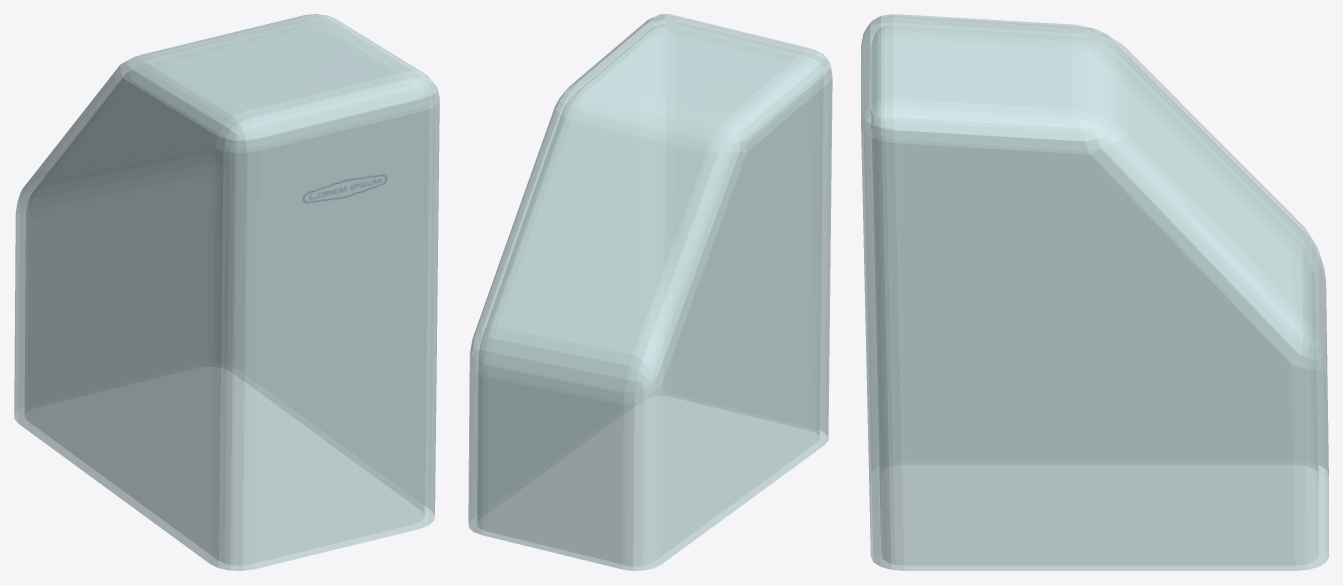
File: huppu_1.3.fbx
3 renders of one model, left to right at view 1: azimuth 30°, elevation 25°; view 2: azimuth 150°, elevation 25°; view 3: azimuth 270°, elevation 25°, orthographic. The views are drawn at different scales.
Visible parts, largest first — view 1: Cube; view 2: Cube; view 3: Cube.
Part boxes in pixels (<box>): Cube: <box>14,14,439,570</box>; Cube: <box>468,14,832,570</box>; Cube: <box>861,14,1328,570</box>.
Size of the model in its own units: 125 by 243 by 225.
Materials: 1 (1 with a texture image).
